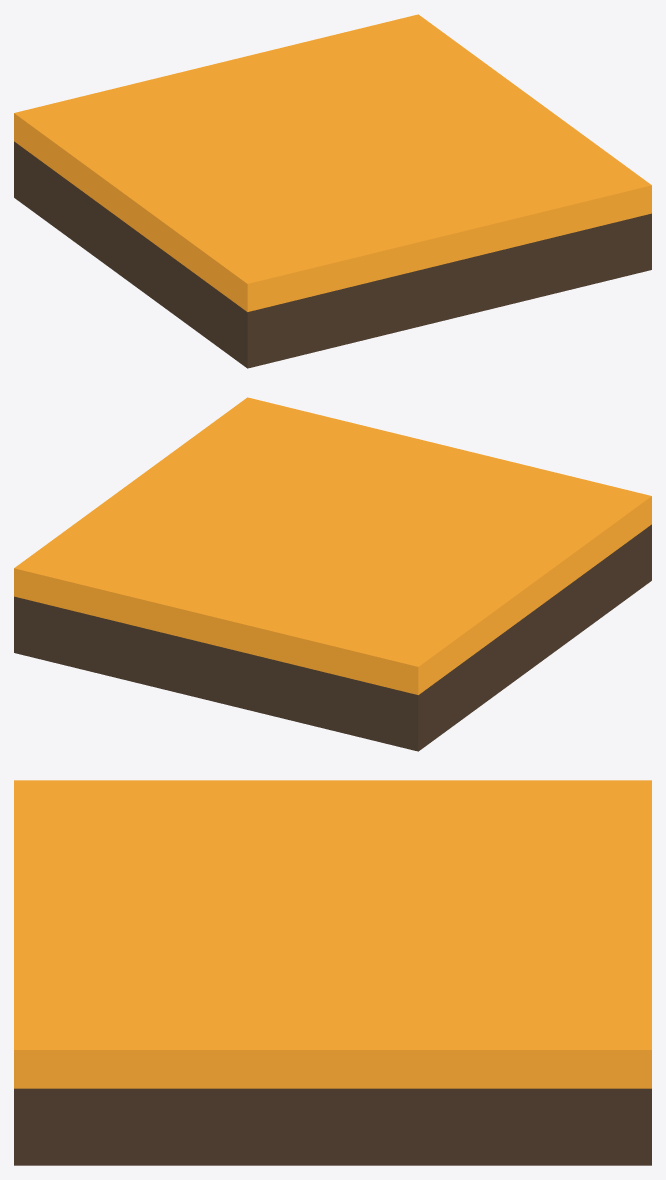
The model's file is tile-plain_sand.glb.
3 renders of one model, top to bottom at view 1: azimuth 30°, elevation 25°; view 2: azimuth 150°, elevation 25°; view 3: azimuth 270°, elevation 25°, orthographic. The views are drawn at different scales.
Parts seen in each view (by area): view 1: tile-plain_sand; view 2: tile-plain_sand; view 3: tile-plain_sand.
Part boxes in pixels (x1,y1,x2,y2): tile-plain_sand: [14, 14, 651, 368]; tile-plain_sand: [14, 397, 651, 751]; tile-plain_sand: [14, 780, 651, 1165].
Bounding box in the file's own units: 30 × 6 × 30.
Materials: 1 (1 with a texture image).
